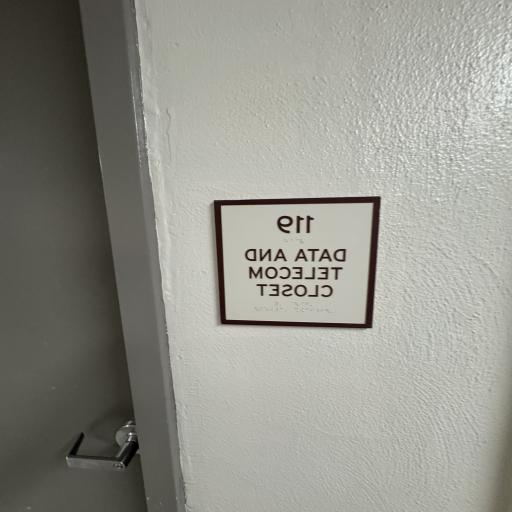room 119 sign: (209, 189, 387, 332)
